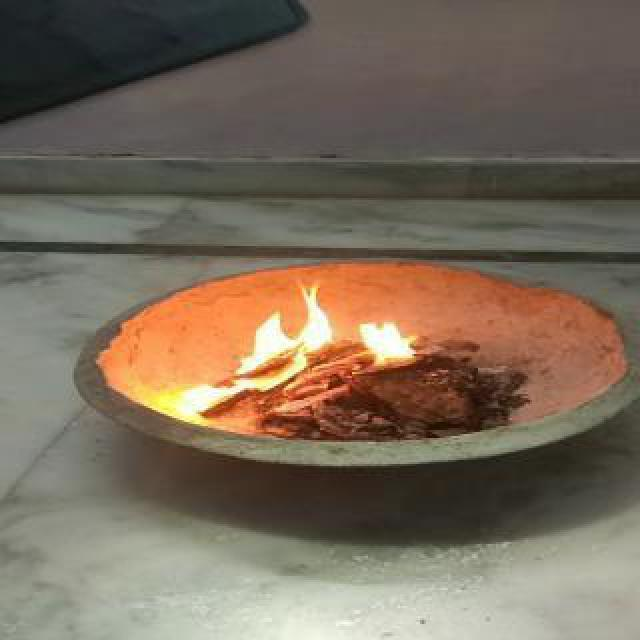Fire: (234, 278, 330, 376), (352, 302, 416, 372), (162, 376, 242, 418)
